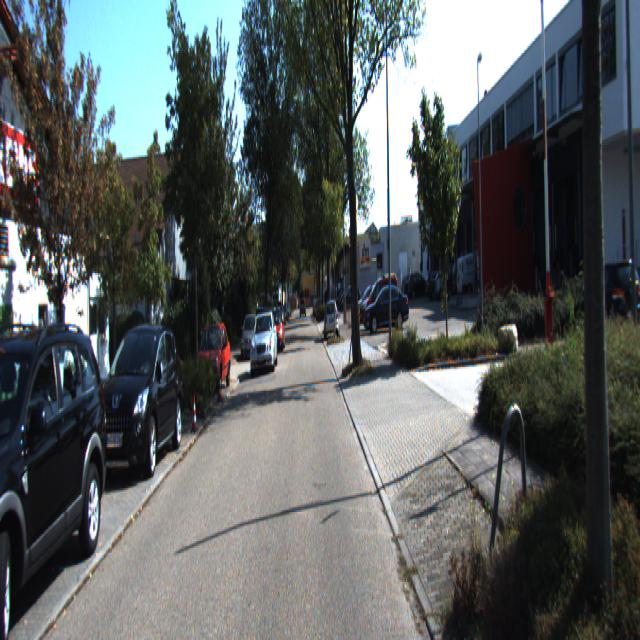Car: (0, 322, 115, 639), (92, 322, 185, 490), (192, 319, 232, 398), (455, 249, 500, 304), (361, 270, 401, 328), (364, 282, 411, 330), (249, 311, 279, 374), (324, 299, 339, 341)
